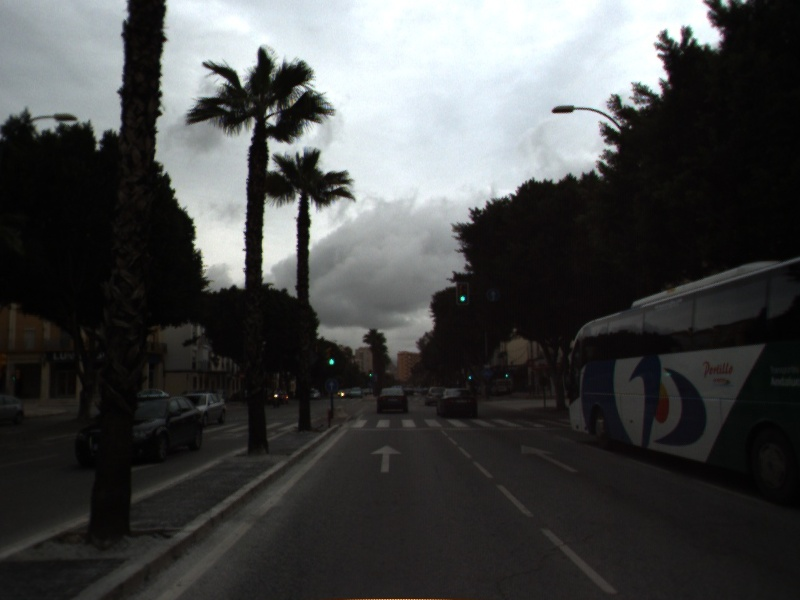STRAIGHT: (518, 442, 581, 475), (368, 442, 405, 474)
